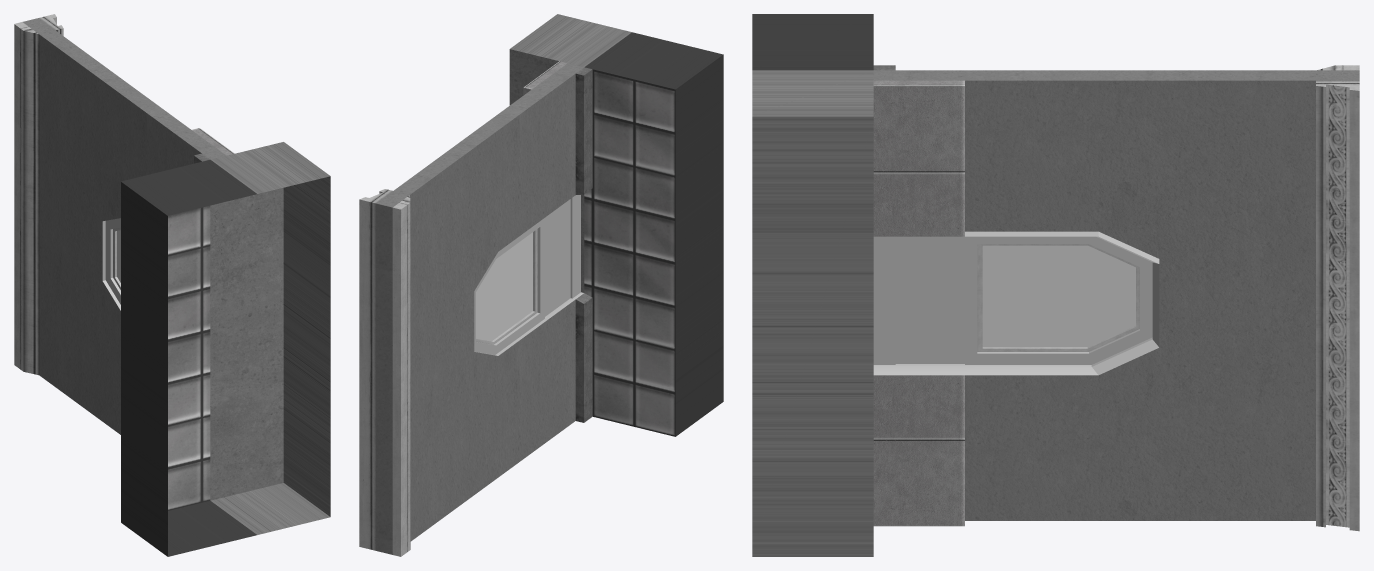
File: A_ground_wall_small_doorway_ 4m.fbx
3 renders of one model, left to right at view 1: azimuth 30°, elevation 25°; view 2: azimuth 150°, elevation 25°; view 3: azimuth 270°, elevation 25°, orthographic. The views are drawn at different scales.
Visible parts, largest first — view 1: A_ground_wall_small_doorway__4m; view 2: A_ground_wall_small_doorway__4m, A_glass_020; view 3: A_ground_wall_small_doorway__4m, A_glass_020.
Boxes of the visible parts, x1,y1,x2,y2 form: A_ground_wall_small_doorway__4m: (14,14,330,556); A_ground_wall_small_doorway__4m: (359,14,723,556); A_glass_020: (476,232,532,341); A_ground_wall_small_doorway__4m: (752,14,1359,556); A_glass_020: (982,245,1135,347).
Size of the model in its own units: 2 by 4 by 5.
